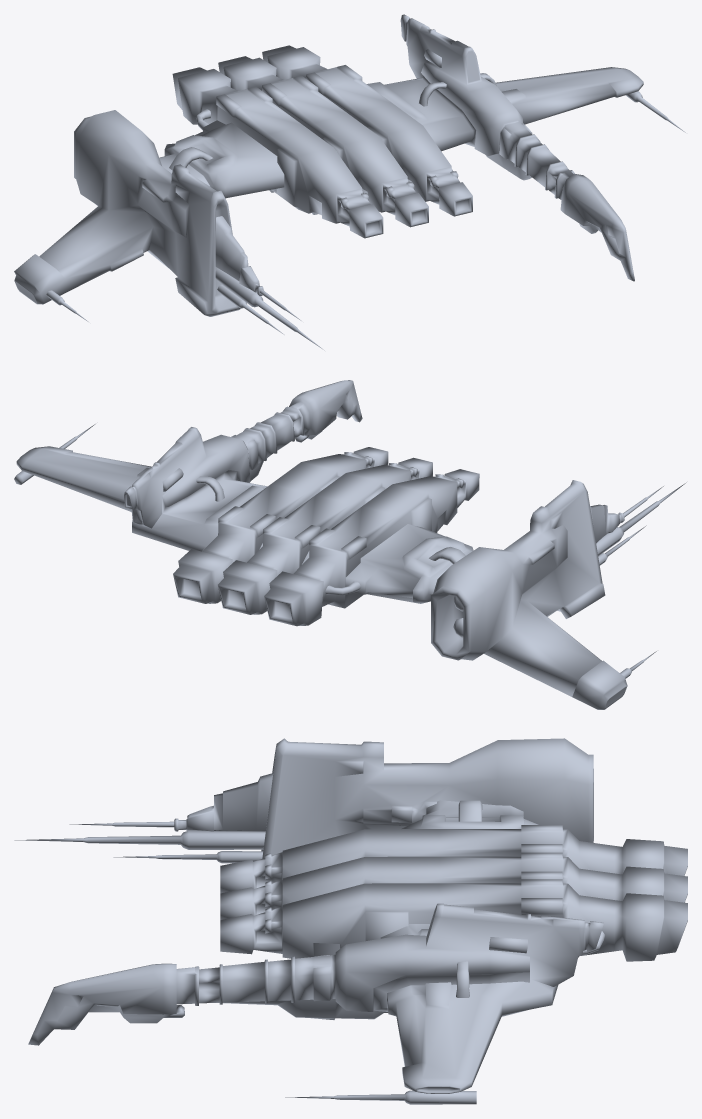
The model's file is kestrel.glb.
The picture shows the model from 3 angles, top to bottom: view 1: azimuth 30°, elevation 25°; view 2: azimuth 150°, elevation 25°; view 3: azimuth 270°, elevation 25°; orthographic projection. The views are drawn at different scales.
Visible parts, largest first — view 1: kestrel; view 2: kestrel; view 3: kestrel.
Part boxes in pixels (x1=…): kestrel: x1=14, y1=14, x2=685, y2=350; kestrel: x1=14, y1=380, x2=686, y2=709; kestrel: x1=14, y1=738, x2=687, y2=1104.
Size of the model in its own units: 1 by 0.2502 by 0.7877.
